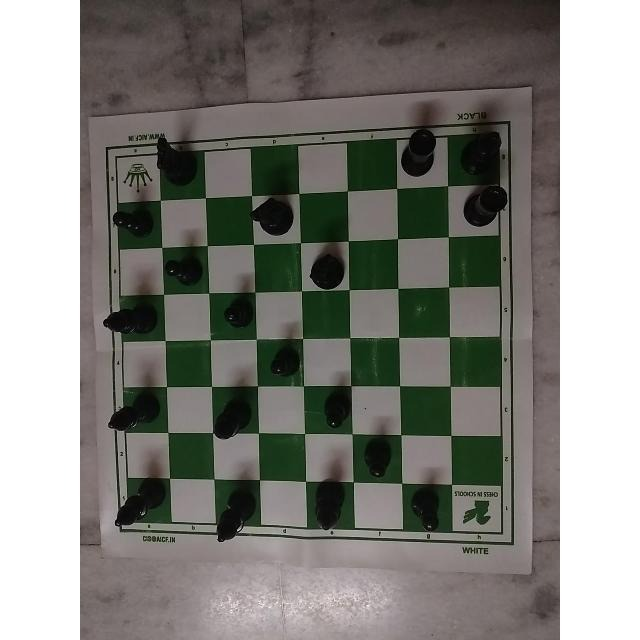black-bishop: (107, 477, 174, 533), (207, 477, 259, 545), (99, 391, 161, 439), (461, 120, 505, 178), (206, 392, 256, 443), (315, 479, 353, 540), (102, 301, 160, 340)
black-knight: (150, 132, 201, 190), (293, 243, 348, 292), (249, 195, 298, 245)
black-pawn: (406, 487, 456, 541), (160, 251, 207, 293), (359, 440, 401, 487), (110, 200, 154, 241), (216, 293, 259, 334), (265, 342, 307, 382), (318, 389, 354, 433)
black-rook: (394, 120, 440, 180), (462, 176, 513, 225)
